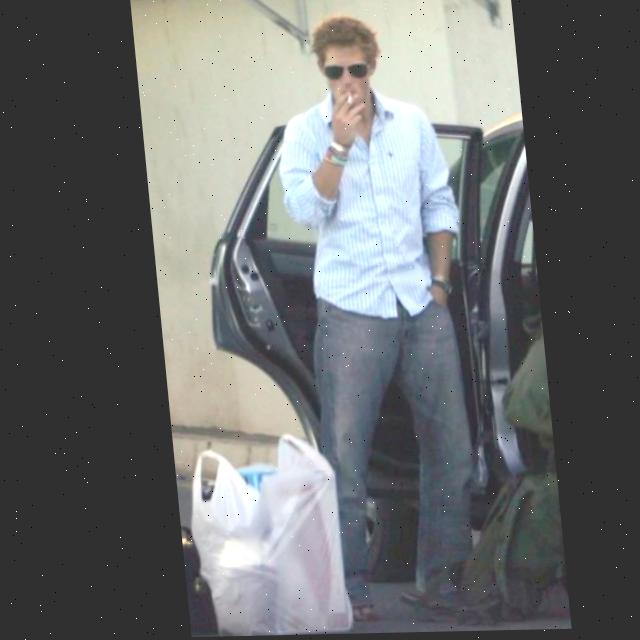cigarette: (345, 97, 352, 107)
